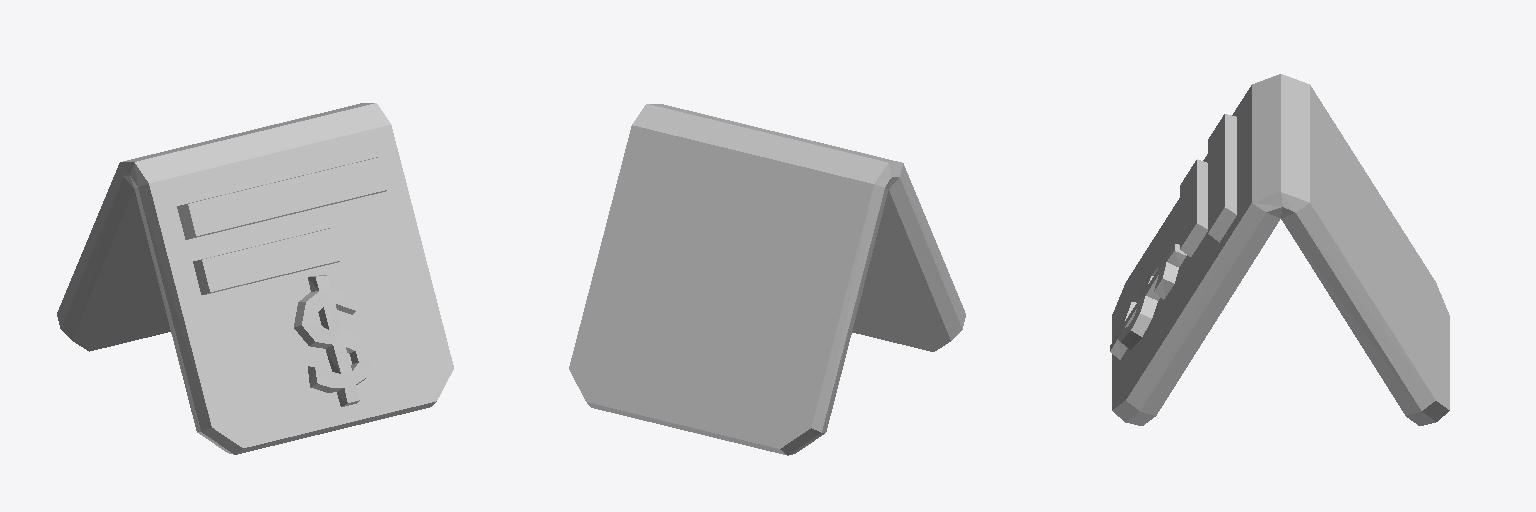
Rendered from pricing_card.obj.
3 views of the same model, side by side, from view 1: azimuth 30°, elevation 25°; view 2: azimuth 150°, elevation 25°; view 3: azimuth 270°, elevation 25° (orthographic).
Parts seen in each view (by area): view 1: pricing_card; view 2: pricing_card; view 3: pricing_card.
Part boxes in pixels (left/top/right/bottom): pricing_card: left=57, top=103, right=453, bottom=454; pricing_card: left=569, top=104, right=965, bottom=455; pricing_card: left=1110, top=74, right=1449, bottom=425.
Bounding box in the file's own units: 0.2473 × 0.2331 × 0.2916.